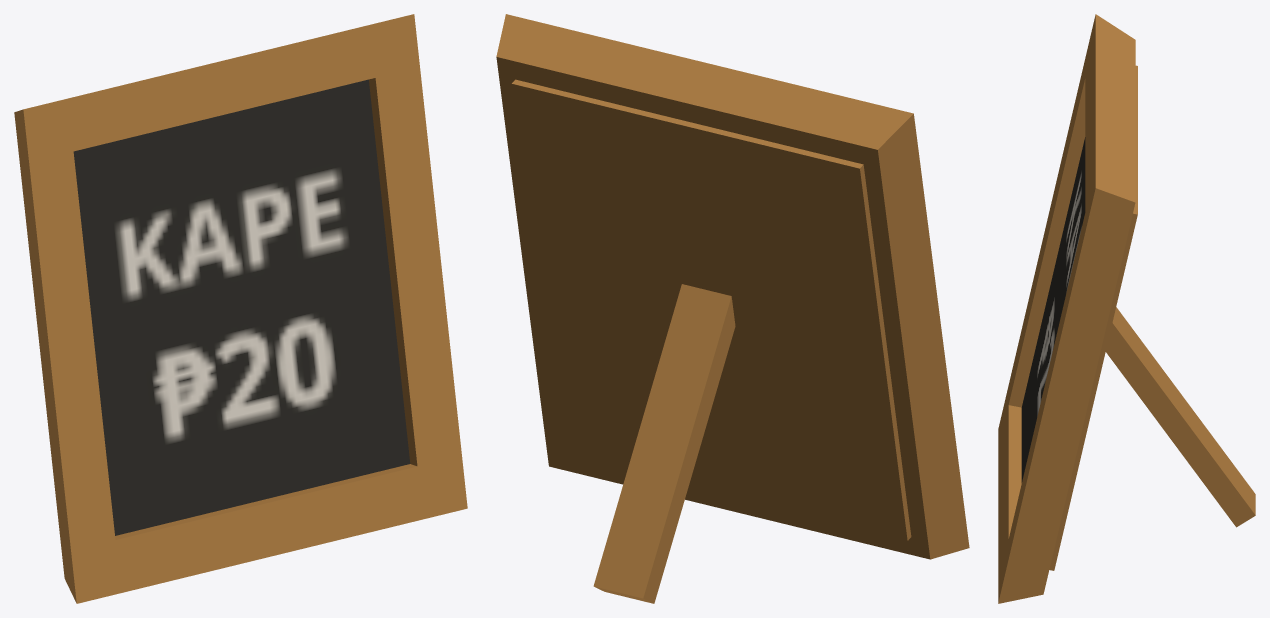
The model's file is SM_Sign_MenuCounter_Kape_01.fbx.
The picture shows the model from 3 angles, left to right: view 1: azimuth 30°, elevation 25°; view 2: azimuth 150°, elevation 25°; view 3: azimuth 270°, elevation 25°; orthographic projection. The views are drawn at different scales.
Visible parts, largest first — view 1: SM_Sign_MenuCounter_Kape_01; view 2: SM_Sign_MenuCounter_Kape_01; view 3: SM_Sign_MenuCounter_Kape_01.
Boxes of the visible parts, <box> form: SM_Sign_MenuCounter_Kape_01: <box>14,14,467,603</box>; SM_Sign_MenuCounter_Kape_01: <box>496,14,969,603</box>; SM_Sign_MenuCounter_Kape_01: <box>998,14,1255,603</box>.
Bounding box in the file's own units: 0.246 × 0.2739 × 0.1538.
Materials: 1 (1 with a texture image).
